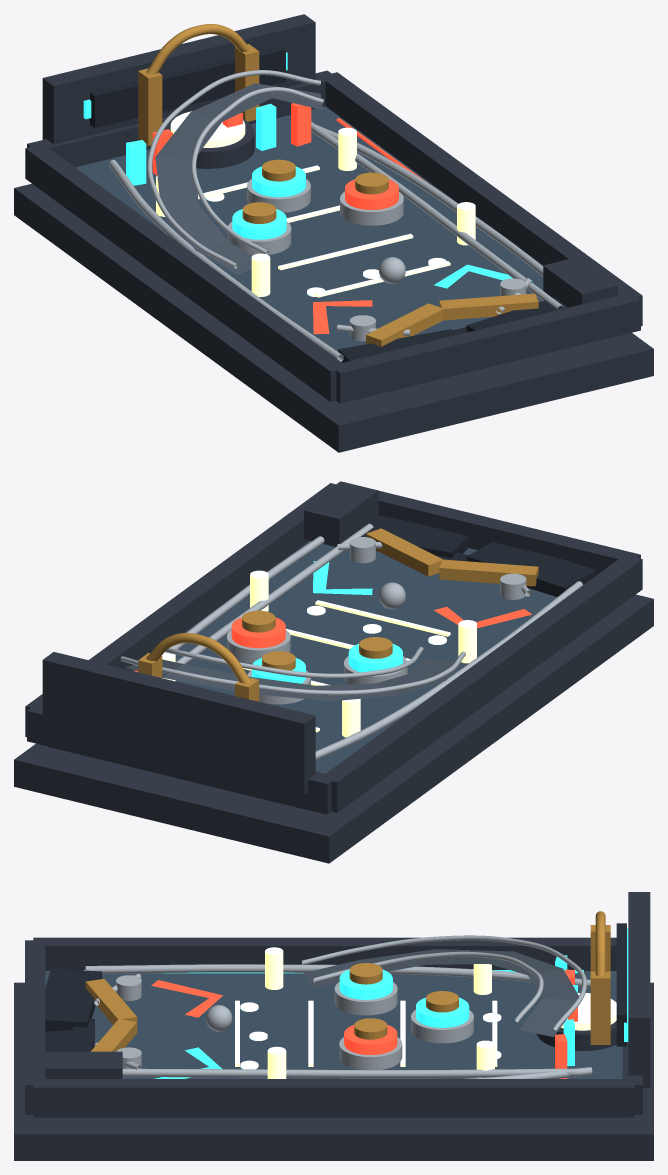
File: infinite-pinball-base-v1.glb
The picture shows the model from 3 angles, top to bottom: view 1: azimuth 30°, elevation 25°; view 2: azimuth 150°, elevation 25°; view 3: azimuth 270°, elevation 25°; orthographic projection.
Parts seen in each view (by area): view 1: Playfield, Cabinet_Base, Rail_Left, Rail_Bottom, Rail_Right, Back_Crest, Ramp_Main, Theme_Header_Panel, Rail_Top, Plunger_Housing, Shooter_Lane_Rail, Ramp_Main_Rail_R (+30 smaller); view 2: Cabinet_Base, Playfield, Back_Crest, Rail_Left, Rail_Right, Rail_Bottom, Rail_Top, Ramp_Main, Plunger_Housing, Apron_Left, Apron_Right, Guide_Left (+24 smaller); view 3: Playfield, Cabinet_Base, Rail_Right, Rail_Left, Ramp_Main, Back_Crest, Shooter_Lane_Rail, Rail_Bottom, Guide_Left, Apron_Left, Plunger_Housing, Ramp_Main_Rail_R (+31 smaller).
Boxes of the visible parts, x1=… form: Playfield: x1=75, y1=106, x2=619, y2=403; Cabinet_Base: x1=14, y1=183, x2=653, y2=452; Rail_Left: x1=25, y1=144, x2=347, y2=401; Rail_Bottom: x1=333, y1=293, x2=640, y2=403; Rail_Right: x1=320, y1=72, x2=642, y2=326; Back_Crest: x1=42, y1=14, x2=315, y2=144; Ramp_Main: x1=155, y1=83, x2=322, y2=274; Theme_Header_Panel: x1=90, y1=46, x2=285, y2=128; Rail_Top: x1=27, y1=70, x2=331, y2=167; Plunger_Housing: x1=543, y1=257, x2=617, y2=307; Shooter_Lane_Rail: x1=311, y1=121, x2=564, y2=308; Ramp_Main_Rail_R: x1=147, y1=70, x2=320, y2=268; Cabinet_Base: x1=14, y1=594, x2=653, y2=863; Playfield: x1=48, y1=541, x2=556, y2=814; Back_Crest: x1=42, y1=652, x2=315, y2=794; Rail_Left: x1=321, y1=555, x2=642, y2=812; Rail_Right: x1=25, y1=483, x2=337, y2=736; Rail_Bottom: x1=331, y1=481, x2=640, y2=575; Rail_Top: x1=27, y1=708, x2=337, y2=814; Ramp_Main: x1=125, y1=658, x2=460, y2=701; Plunger_Housing: x1=304, y1=482, x2=378, y2=546; Apron_Left: x1=466, y1=542, x2=596, y2=596; Apron_Right: x1=350, y1=515, x2=468, y2=558; Guide_Left: x1=315, y1=581, x2=582, y2=759; Playfield: x1=44, y1=971, x2=623, y2=1119; Cabinet_Base: x1=14, y1=982, x2=653, y2=1160; Rail_Right: x1=33, y1=1079, x2=634, y2=1117; Rail_Left: x1=33, y1=937, x2=616, y2=970; Ramp_Main: x1=303, y1=949, x2=578, y2=1037; Back_Crest: x1=628, y1=892, x2=650, y2=1087; Shooter_Lane_Rail: x1=122, y1=1068, x2=577, y2=1078; Rail_Bottom: x1=25, y1=940, x2=45, y2=1114; Guide_Left: x1=85, y1=964, x2=590, y2=987; Apron_Left: x1=45, y1=969, x2=101, y2=1031; Plunger_Housing: x1=45, y1=1051, x2=122, y2=1078; Ramp_Main_Rail_R: x1=301, y1=935, x2=586, y2=1030.
Bounding box in the file's own units: 3.9 × 2.01 × 6.96.
